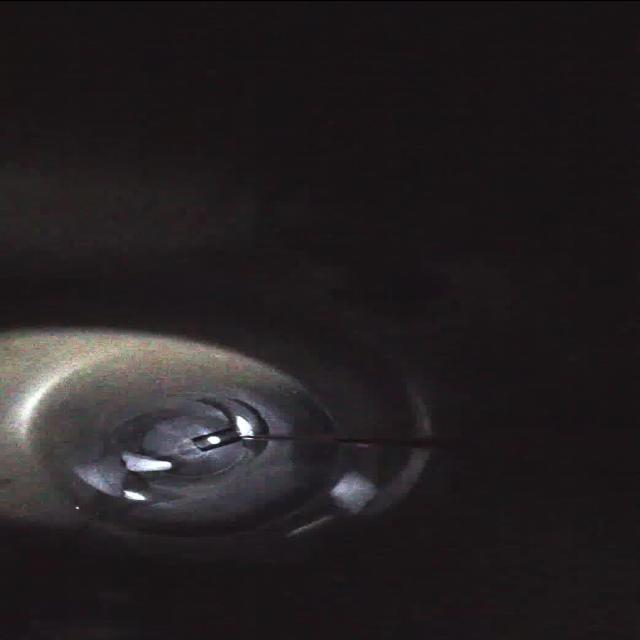impurity: (116, 446, 176, 478)
